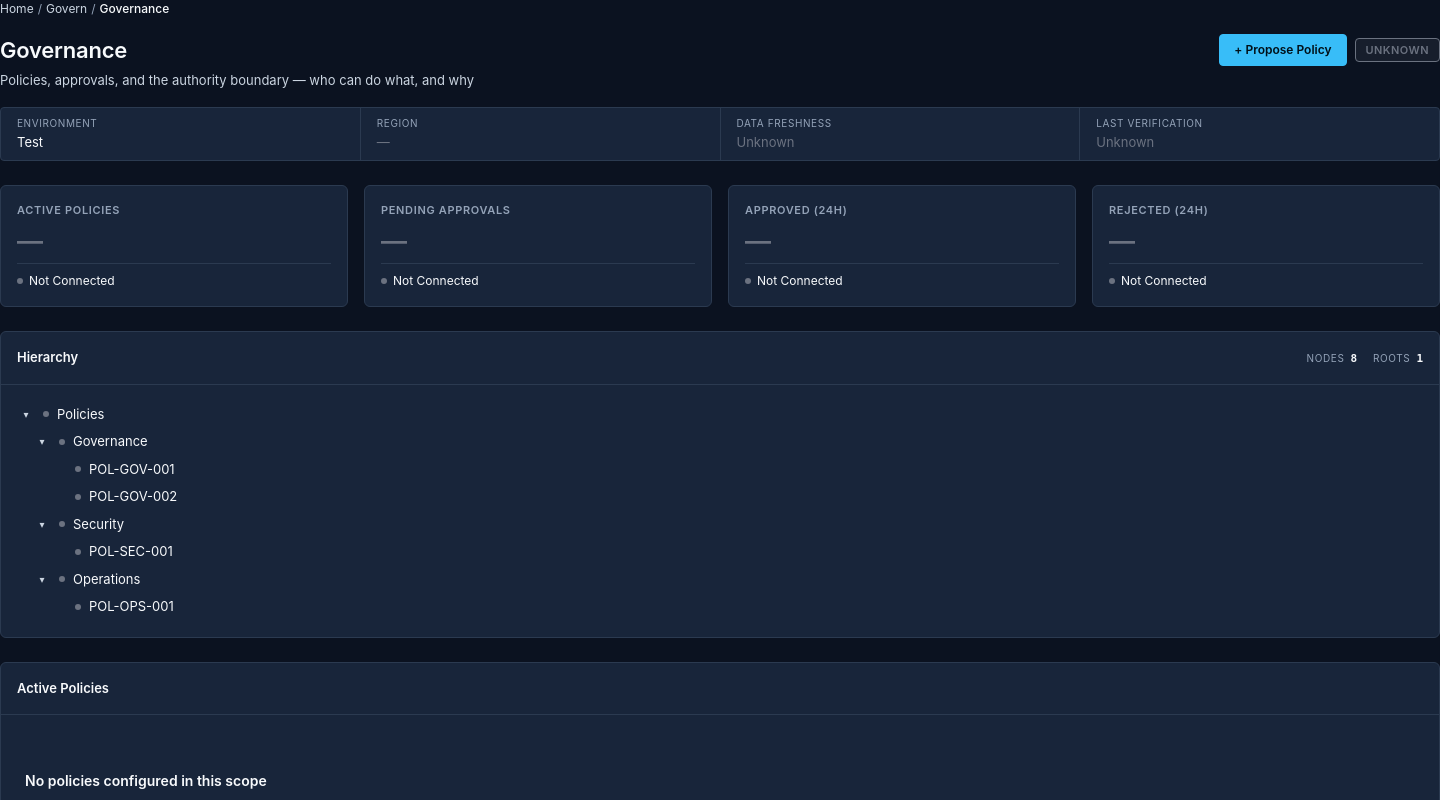
Test: GovernancePage › acknowledging enables the confirm button
The width and height of the screenshot is (1440, 800).
What coordinates should you click on to do the following:
click the button with test id "eg-governance-propose"
I would click on:
 (1283, 50)
Its box is [1219,34,1346,66].
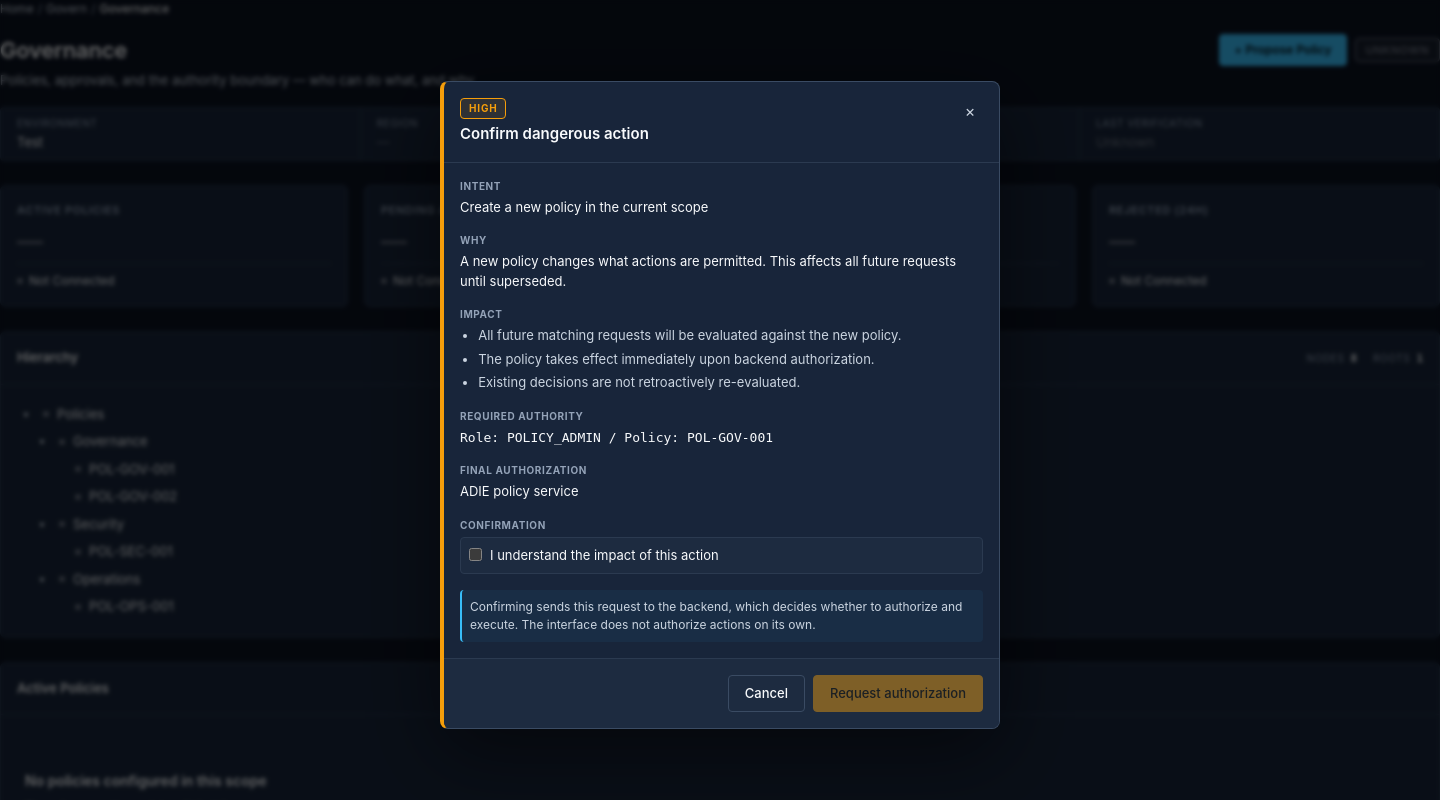
Expected: the checkbox with test id "eg-danger-ack" is shown
What coordinates should you click on to do the following:
click the checkbox with test id "eg-danger-ack"
I would click on:
 (476, 554)
Its box is [469,548,482,560].
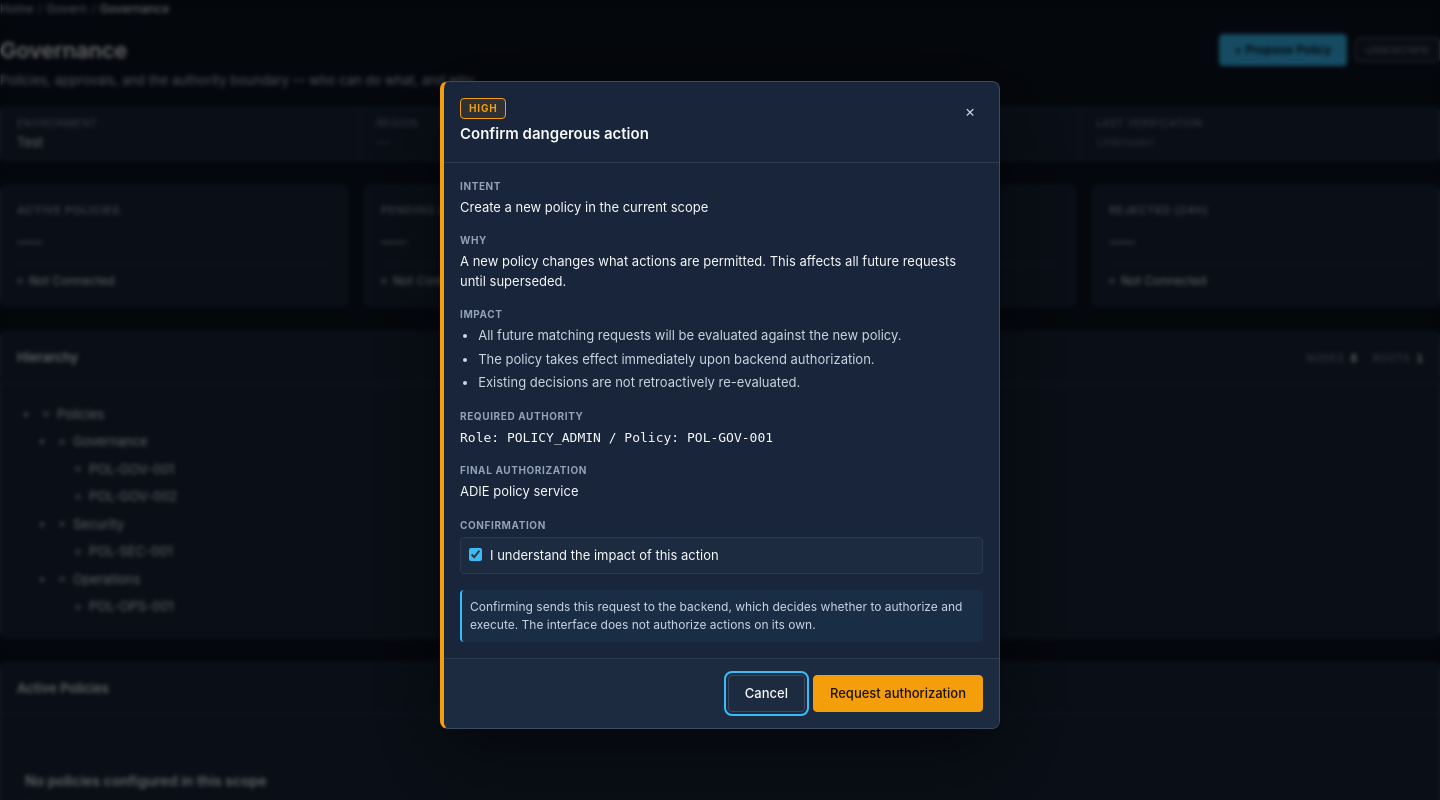
Expected: the button with test id "eg-danger-confirm" is enabled, [813,674,983,712]
